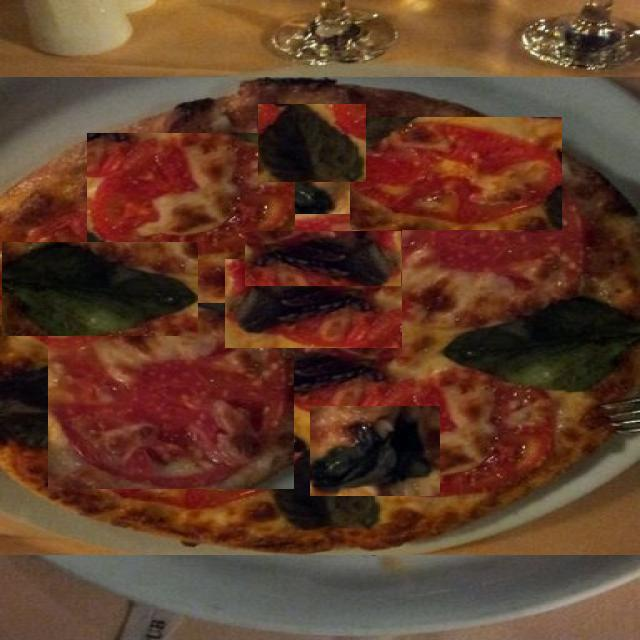basil: (2, 242, 198, 336), (483, 182, 640, 272), (310, 406, 440, 496), (245, 231, 401, 286), (258, 104, 366, 182)
pepperoni: (48, 303, 294, 489), (398, 268, 636, 425), (87, 133, 295, 259), (350, 117, 562, 230), (225, 214, 402, 348)
pizza: (0, 77, 640, 555)
